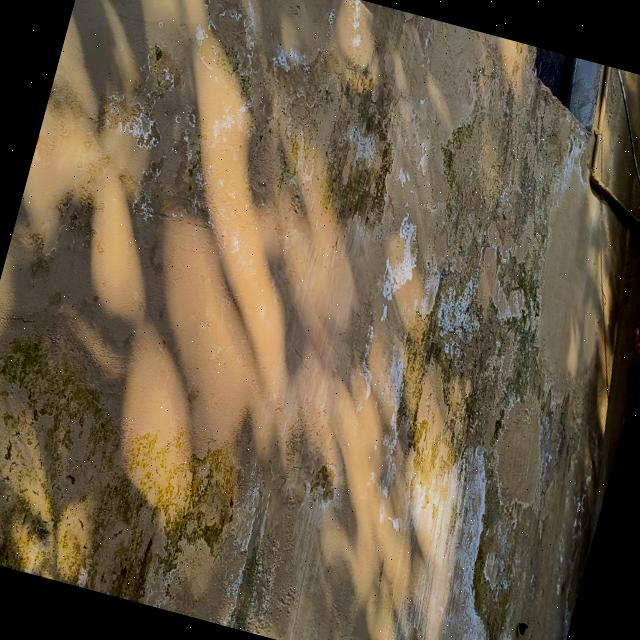peeling: (0, 0, 625, 640)
stain_mould: (0, 0, 622, 640)
